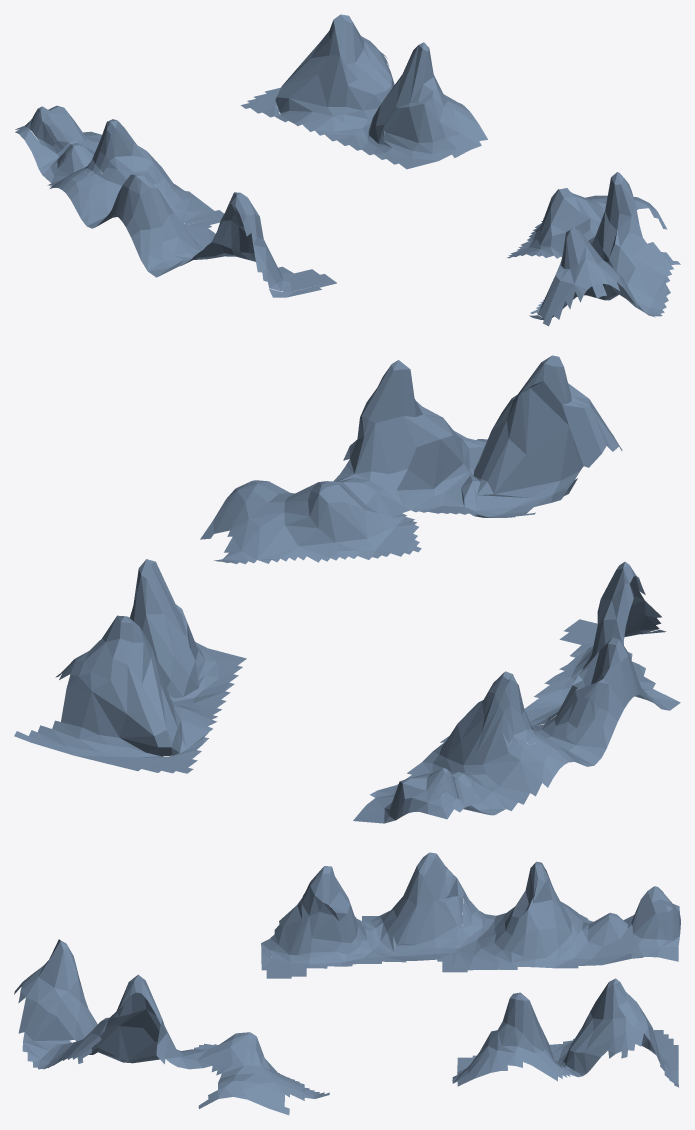
The picture shows the model from 3 angles, top to bottom: view 1: azimuth 30°, elevation 25°; view 2: azimuth 150°, elevation 25°; view 3: azimuth 270°, elevation 25°; orthographic projection. The views are drawn at different scales.
Parts seen in each view (by area): view 1: MT4, MT2, MT1; view 2: MT1, MT4, MT2; view 3: MT4, MT1, MT2.
Boxes of the visible parts, left/top/right/bottom form: MT4: left=15, top=105, right=336, bottom=297; MT2: left=240, top=14, right=487, bottom=169; MT1: left=507, top=172, right=680, bottom=326; MT1: left=200, top=355, right=622, bottom=564; MT4: left=353, top=561, right=680, bottom=823; MT2: left=14, top=559, right=246, bottom=773; MT4: left=261, top=852, right=680, bottom=978; MT1: left=14, top=939, right=329, bottom=1115; MT2: left=452, top=978, right=678, bottom=1087.
Bounding box in the file's own units: 171 × 43.28 × 241.
